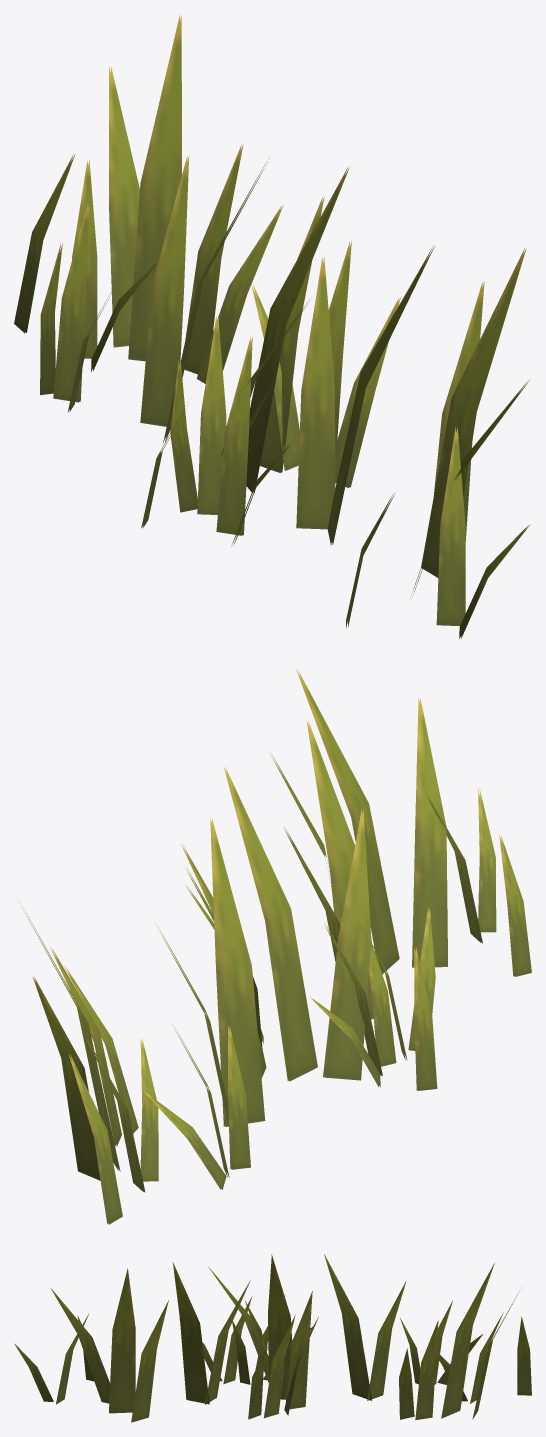
File: scenes_village_grass01.FBX
3 renders of one model, top to bottom at view 1: azimuth 30°, elevation 25°; view 2: azimuth 150°, elevation 25°; view 3: azimuth 270°, elevation 25°, orthographic. The views are drawn at different scales.
Parts seen in each view (by area): view 1: scenes_village_grass01; view 2: scenes_village_grass01; view 3: scenes_village_grass01.
Part boxes in pixels (x1,y1,x2,y2): scenes_village_grass01: (14, 15, 530, 638); scenes_village_grass01: (19, 669, 531, 1224); scenes_village_grass01: (14, 1254, 531, 1422).
Size of the model in its own units: 39.84 by 42.64 by 116.
